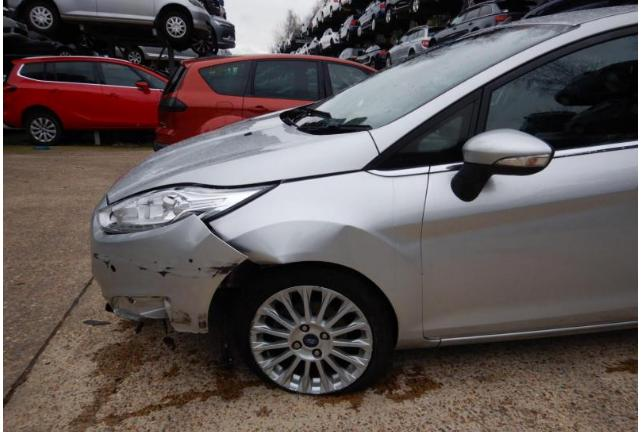Fender: (206, 166, 429, 349)
Front-bumper: (91, 194, 249, 333)
Front-door: (421, 24, 638, 339)
Front-wheel: (232, 261, 394, 397)
Front-window: (489, 23, 638, 150), (369, 93, 478, 170)
Headlight: (99, 182, 281, 235)
Hood: (108, 108, 380, 205)
Mirror: (450, 129, 553, 202)
Rocker-panel: (423, 321, 638, 347)
Roof: (504, 3, 638, 26)
Windshield: (281, 23, 580, 133)
